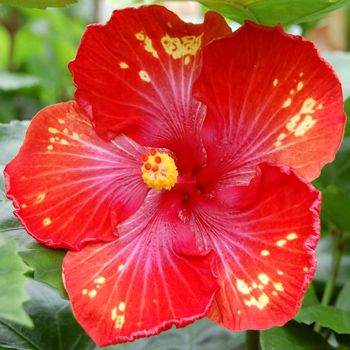Hibiscus: (11, 8, 342, 333)
